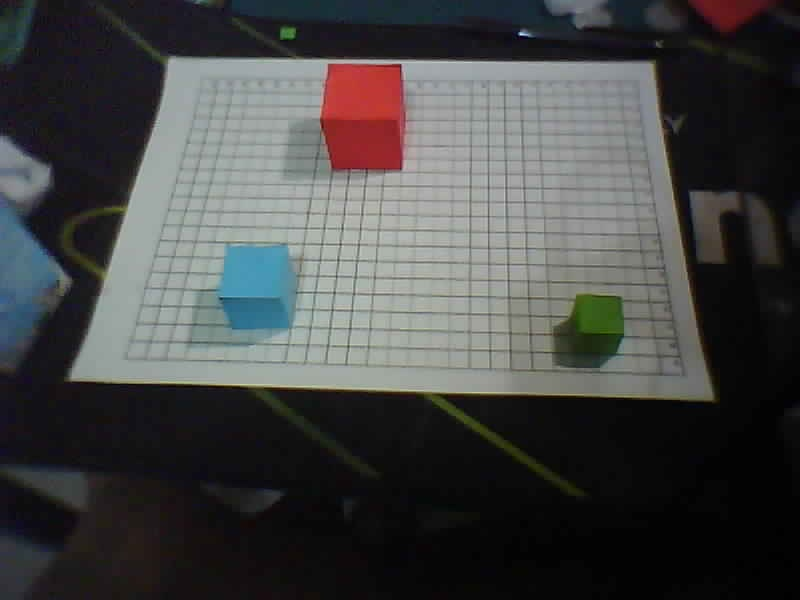blue(3x3x3): (220, 239, 300, 336)
green(2x2x2): (568, 281, 625, 364)
red(4x4x4): (323, 49, 409, 175)
